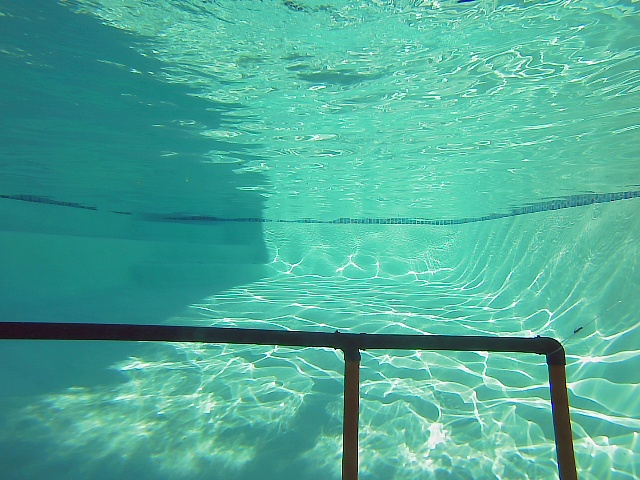Gate: (547, 357, 587, 480), (341, 355, 365, 480)
